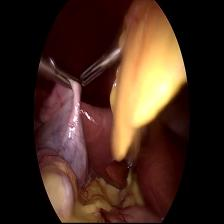Grasper: (80, 43, 119, 94), (45, 57, 79, 100)
